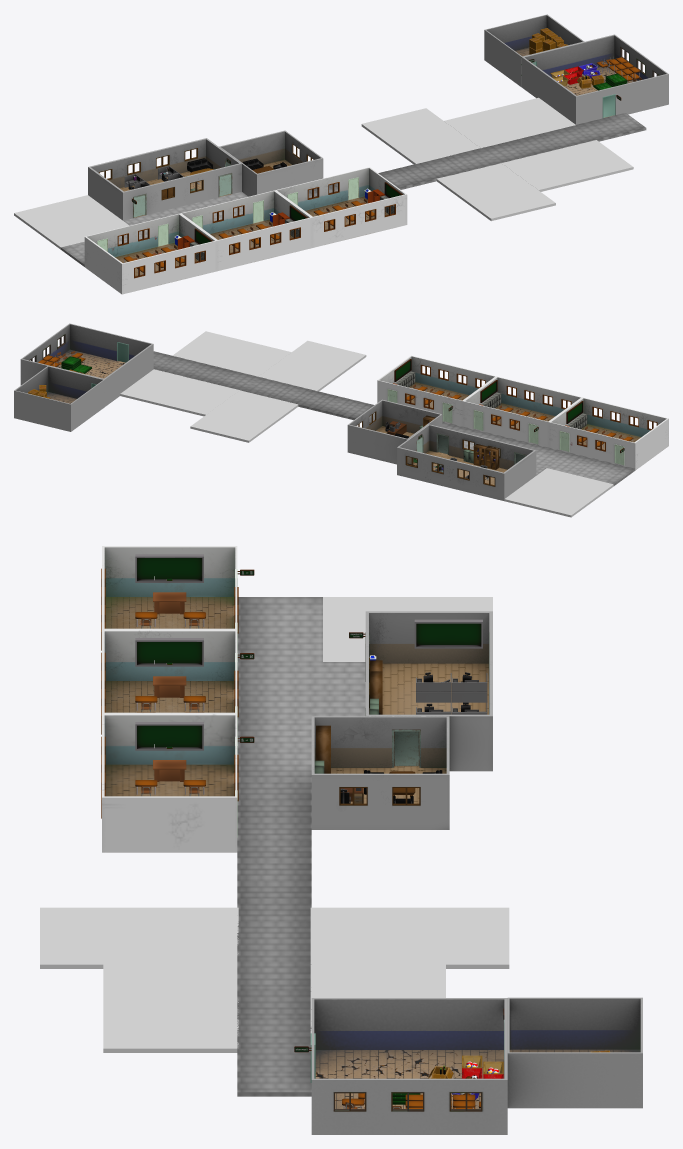
File: map.fbx
3 renders of one model, top to bottom at view 1: azimuth 30°, elevation 25°; view 2: azimuth 150°, elevation 25°; view 3: azimuth 270°, elevation 25°, orthographic. The views are drawn at different scales.
Visible parts, largest first — view 1: classroom.007, Cube, Cube.038, classroom, classroom.002, classroom.001, Cube.037, classroom.005, classroom.006, classroom.003, classroom.004, Cube.039 (+4 smaller); view 2: Cube, Cube.038, classroom.007, classroom, classroom.008, classroom.001, classroom.002, Cube.037, classroom.003, classroom.004, Cube.039, classroom.005 (+5 smaller); view 3: Cube, classroom.007, classroom.002, classroom.008, Cube.037, classroom.006, classroom.003, classroom.005, Cube.038, classroom.001, classroom, classroom.004 (+6 smaller).
Boxes of the visible parts, x1,y1,x2,y2 form: classroom.007: (522, 34, 668, 124); Cube: (61, 113, 646, 266); Cube.038: (88, 138, 241, 220); classroom: (84, 213, 216, 294); classroom.002: (275, 167, 407, 247); classroom.001: (180, 190, 311, 271); Cube.037: (219, 130, 323, 196); classroom.005: (436, 163, 555, 220); classroom.006: (502, 140, 633, 191); classroom.003: (361, 108, 480, 164); classroom.004: (444, 97, 575, 148); Cube.039: (14, 195, 129, 249); Cube: (153, 351, 635, 485); Cube.038: (397, 424, 536, 500); classroom.007: (20, 323, 153, 406); classroom: (549, 397, 668, 470); classroom.008: (14, 366, 104, 431); classroom.001: (463, 376, 582, 447); classroom.002: (377, 355, 496, 426); Cube.037: (347, 399, 442, 464); classroom.003: (190, 390, 298, 442); classroom.004: (120, 369, 239, 416); Cube.039: (504, 468, 613, 517); classroom.005: (259, 340, 366, 391); Cube: (237, 597, 365, 1096); classroom.007: (311, 998, 507, 1134); classroom.002: (102, 713, 237, 852); classroom.008: (507, 997, 642, 1108); Cube.037: (311, 716, 449, 829); classroom.006: (103, 964, 238, 1052); classroom.003: (310, 907, 509, 968); classroom.005: (40, 907, 238, 968); Cube.038: (365, 611, 492, 771); classroom.001: (102, 630, 237, 713); classroom: (102, 546, 237, 629); classroom.004: (310, 964, 445, 1033).
Size of the model in its own units: 3688 by 177 by 1759.
